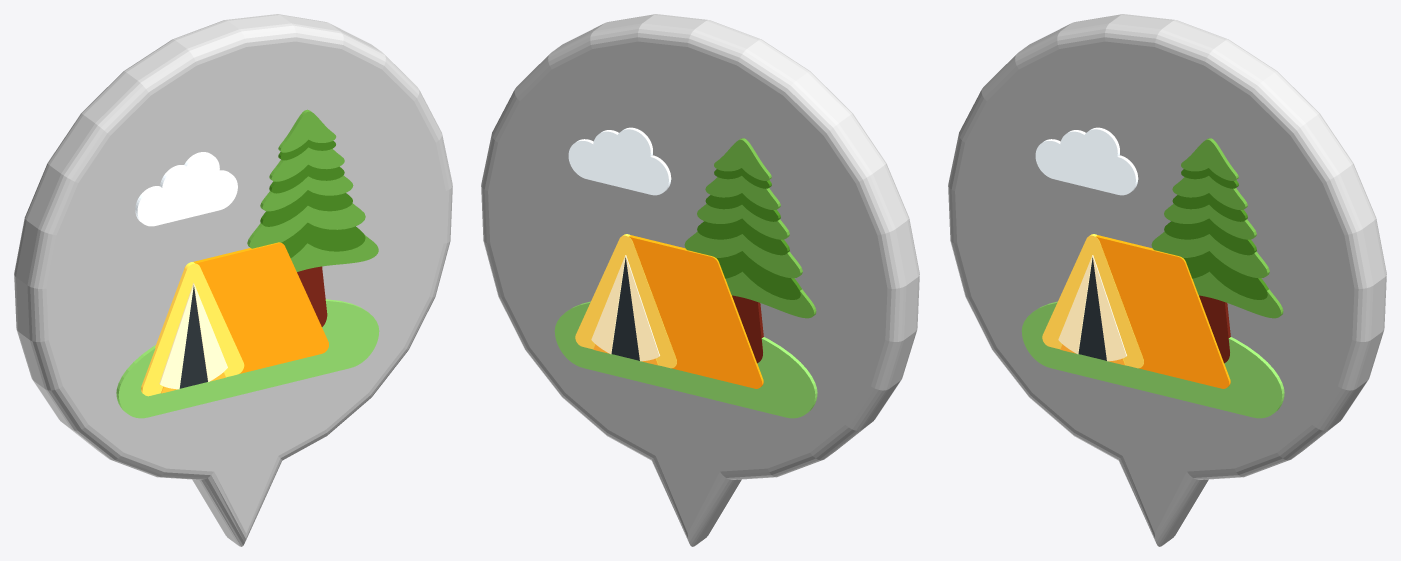
File: camping.glb
3 renders of one model, left to right at view 1: azimuth 30°, elevation 25°; view 2: azimuth 150°, elevation 25°; view 3: azimuth 330°, elevation 25°, orthographic.
Parts seen in each view (by area): view 1: EmotionBubble; view 2: EmotionBubble; view 3: EmotionBubble.
Part boxes in pixels (x1,y1,x2,y2): EmotionBubble: (14,14,452,546); EmotionBubble: (481,14,919,546); EmotionBubble: (948,14,1386,546).
Bounding box in the file's own units: 5.29 × 6.16 × 0.778.
